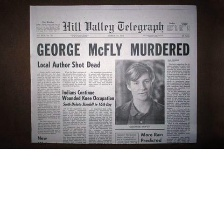news_paper: (22, 2, 199, 145)
